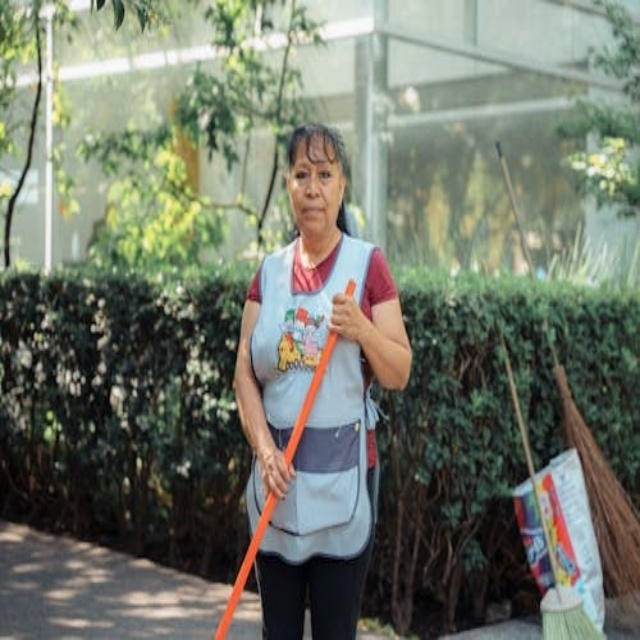Sin_gafas: (287, 155, 335, 190)
Sin_guantes: (328, 286, 370, 345), (255, 438, 294, 499)
Sin_mascara: (298, 197, 330, 230)
